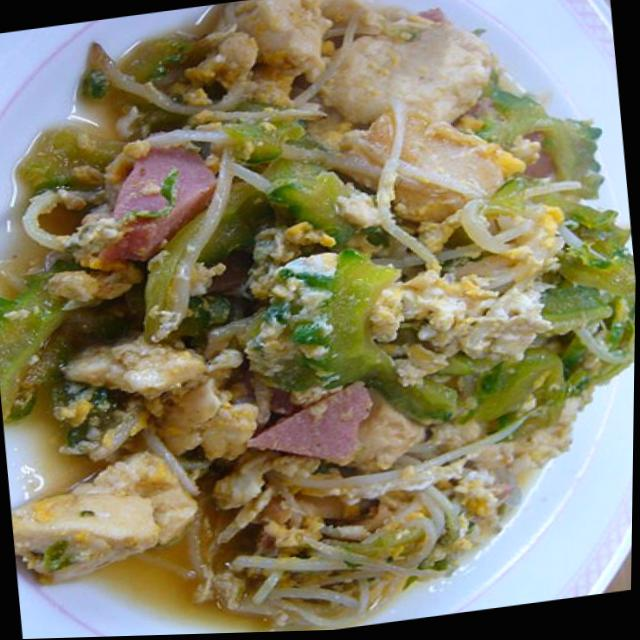熟制海鲜: (17, 0, 640, 579)
